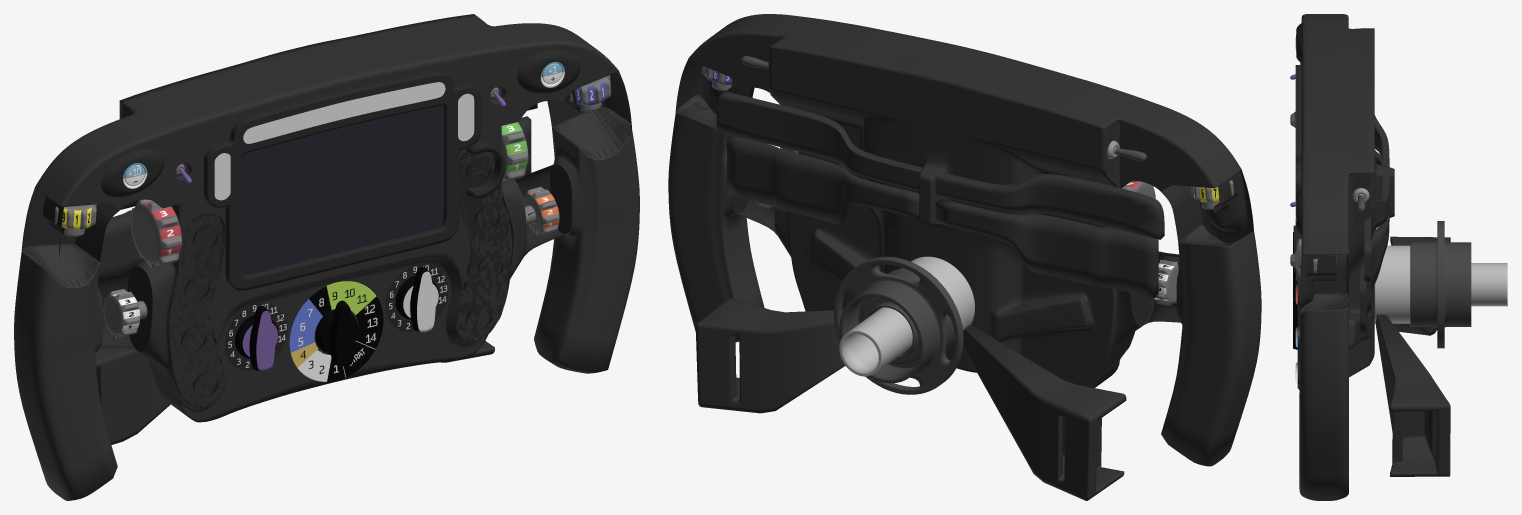
Rendered from steereing wheel2.fbx.
3 renders of one model, left to right at view 1: azimuth 30°, elevation 25°; view 2: azimuth 150°, elevation 25°; view 3: azimuth 270°, elevation 25°, orthographic. The views are drawn at different scales.
Visible parts, largest first — view 1: Plane, Plane.001, Plane.014, Plane.010, Plane.011, Cylinder.004, Circle, Plane.002, Plane.008, Plane.013, Plane.003, Plane.007 (+3 smaller); view 2: Plane, Plane.001, Plane.008, Plane.007, Plane.006, Circle.004, Plane.002, Cylinder.004, Plane.003, Plane.009; view 3: Plane, Plane.001, Circle.004, Plane.008, Plane.002, Plane.006, Plane.007, Plane.010, Plane.011, Cylinder.004, Plane.009.
Part boxes in pixels (box(x1,y1,x2,y2)): Plane: box(35, 14, 618, 422); Plane.001: box(14, 107, 639, 500); Plane.014: box(242, 105, 443, 274); Plane.010: box(203, 71, 481, 290); Plane.011: box(168, 140, 513, 407); Cylinder.004: box(54, 75, 611, 338); Circle: box(225, 264, 448, 381); Plane.002: box(21, 71, 631, 287); Plane.008: box(95, 341, 494, 444); Plane.013: box(214, 82, 474, 200); Plane.003: box(98, 164, 572, 352); Plane.007: box(99, 116, 531, 276); Plane: box(688, 14, 1241, 387); Plane.001: box(668, 95, 1261, 466); Plane.008: box(695, 298, 1126, 500); Plane.007: box(727, 135, 1158, 298); Plane.006: box(716, 92, 1164, 239); Circle.004: box(833, 256, 974, 394); Plane.002: box(675, 59, 1253, 246); Cylinder.004: box(702, 66, 1233, 305); Plane.003: box(731, 195, 1180, 326); Plane.009: box(741, 56, 1146, 161); Plane: box(1295, 14, 1394, 377); Plane.001: box(1299, 293, 1348, 500); Circle.004: box(1374, 221, 1507, 348); Plane.008: box(1375, 236, 1450, 476); Plane.002: box(1300, 62, 1348, 311); Plane.006: box(1364, 115, 1389, 282); Plane.007: box(1360, 150, 1389, 333); Plane.010: box(1295, 65, 1301, 285); Plane.011: box(1293, 225, 1301, 390); Cylinder.004: box(1290, 111, 1348, 339); Plane.009: box(1352, 188, 1369, 212).
Size of the model in its own units: 156 by 415 by 238.
Materials: 22 (5 with a texture image).
